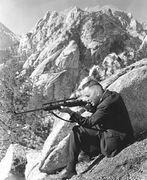gun: (16, 96, 90, 117)
